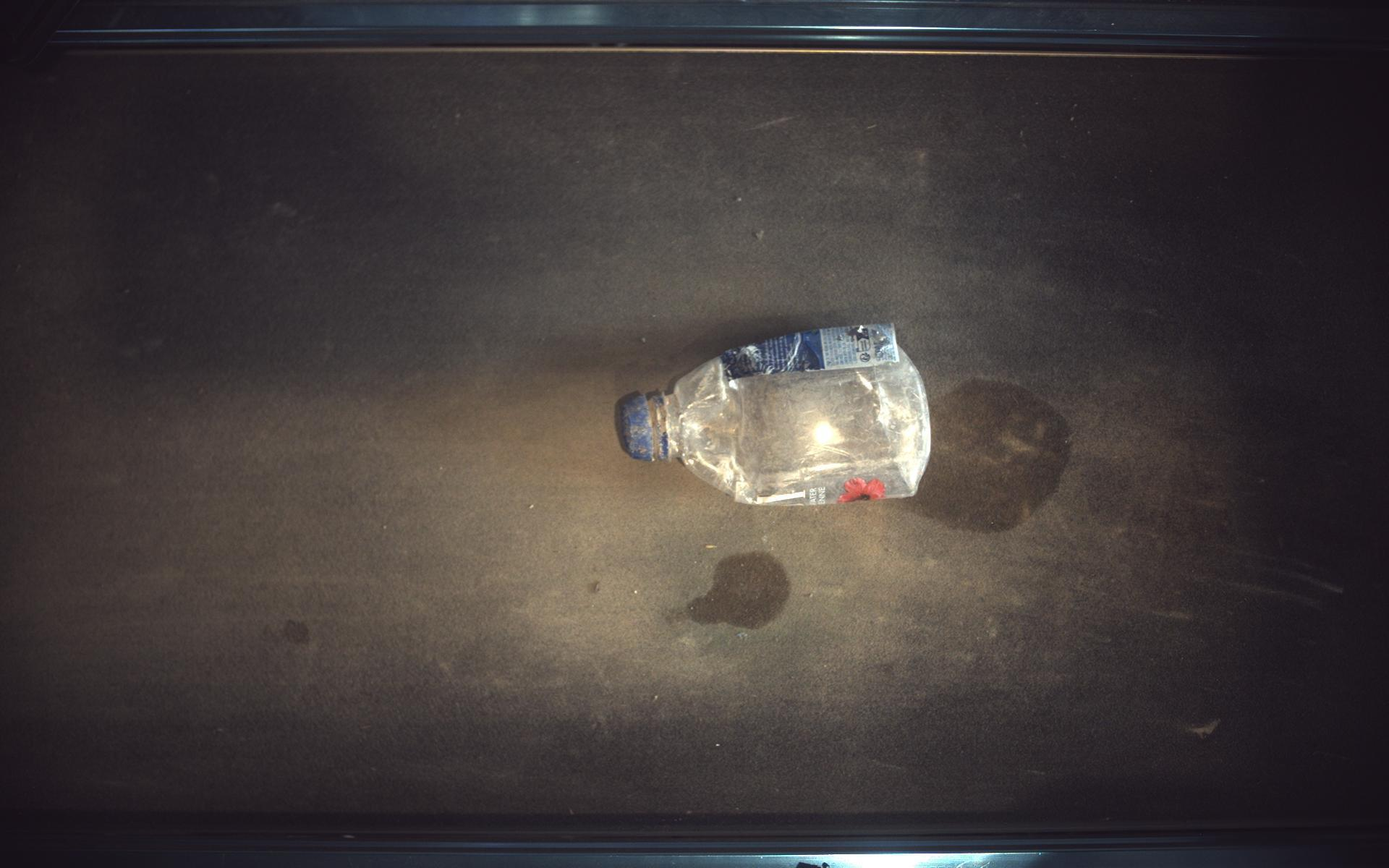general_w: (616, 324, 932, 506)
